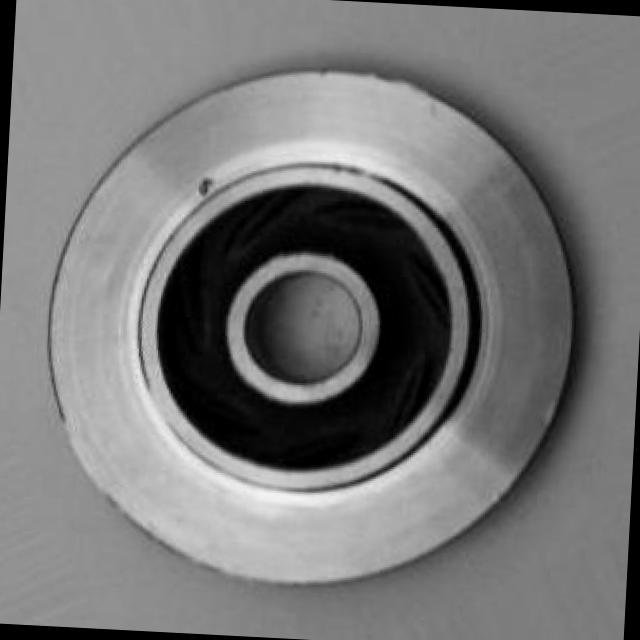Defect: (196, 174, 218, 200)
